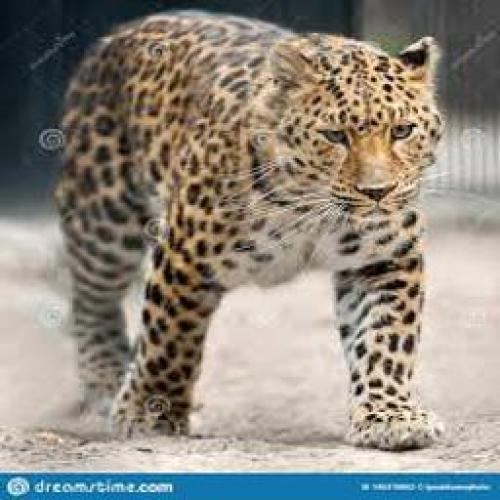amur_leopard-endangered: (49, 9, 446, 456)
